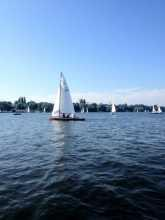fanchuan: (48, 67, 89, 124), (149, 100, 164, 114), (109, 99, 120, 115)
